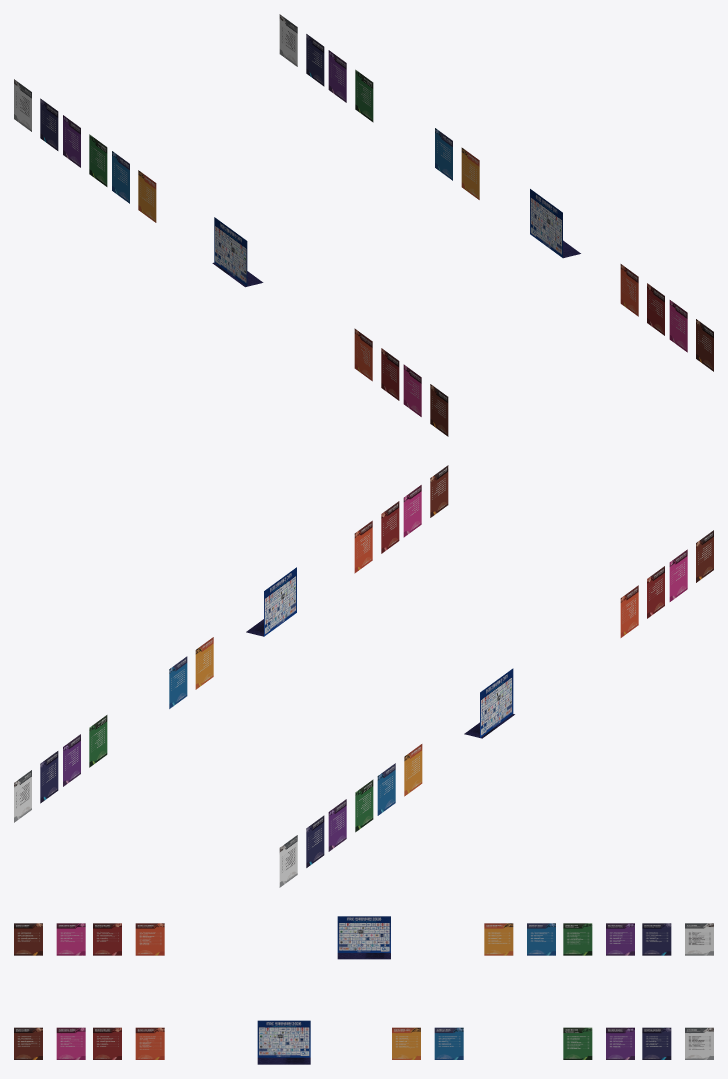
Rendered from Kiosk_Proceeding_PhotoZone.glb.
3 renders of one model, top to bottom at view 1: azimuth 30°, elevation 25°; view 2: azimuth 150°, elevation 25°; view 3: azimuth 270°, elevation 25°, orthographic. The views are drawn at different scales.
Visible parts, largest first — view 1: Plane.203; view 2: Plane.203; view 3: Plane.203.
Part boxes in pixels (x1=…): Plane.203: x1=14, y1=14, x2=713, y2=436; Plane.203: x1=14, y1=465, x2=713, y2=887; Plane.203: x1=14, y1=916, x2=713, y2=1064.
Size of the model in its own units: 18.56 by 3.02 by 48.71.
Materials: 12 (12 with a texture image).
